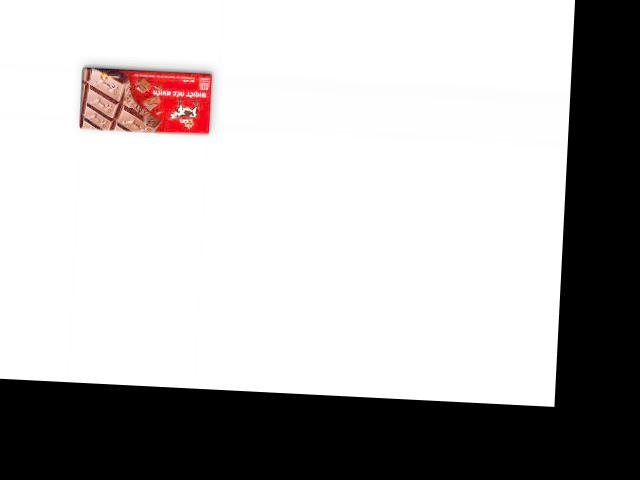chocolate: (76, 61, 216, 138)
